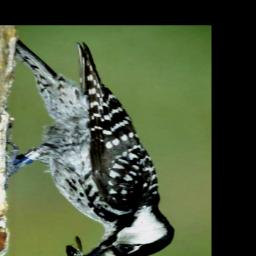Woodpecker: (14, 36, 176, 256)
